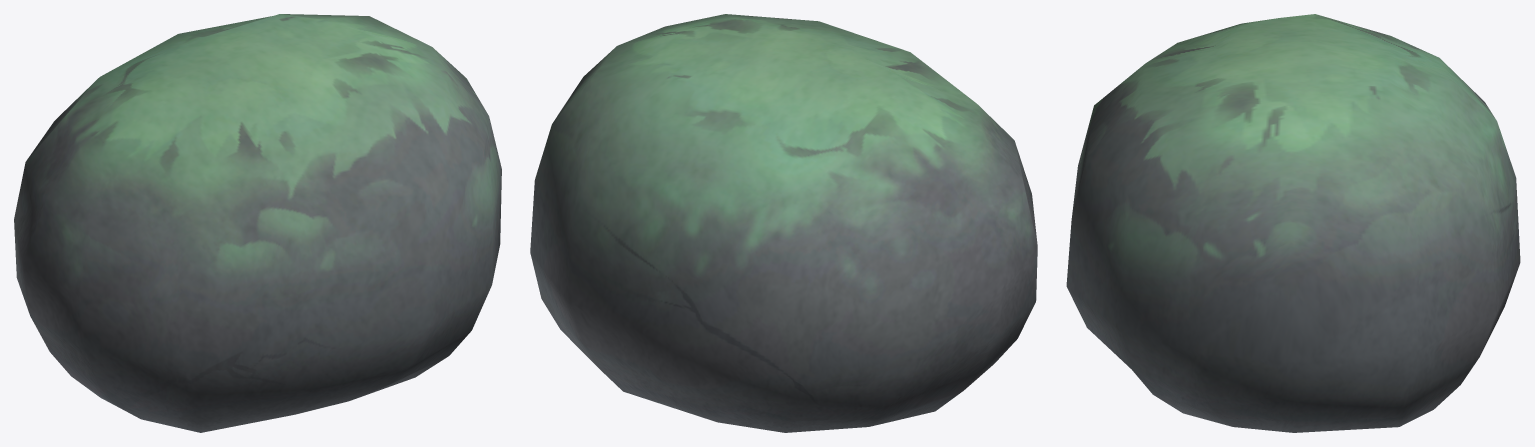
Rendered from stone.fbx.
3 views of the same model, side by side, from view 1: azimuth 30°, elevation 25°; view 2: azimuth 150°, elevation 25°; view 3: azimuth 270°, elevation 25° (orthographic). The views are drawn at different scales.
Parts seen in each view (by area): view 1: stone1; view 2: stone1; view 3: stone1.
Part boxes in pixels (x1,y1,x2,y2): stone1: [14, 14, 501, 432]; stone1: [530, 14, 1037, 432]; stone1: [1066, 14, 1520, 432].
Size of the model in its own units: 7.13 by 5.09 by 6.21.
